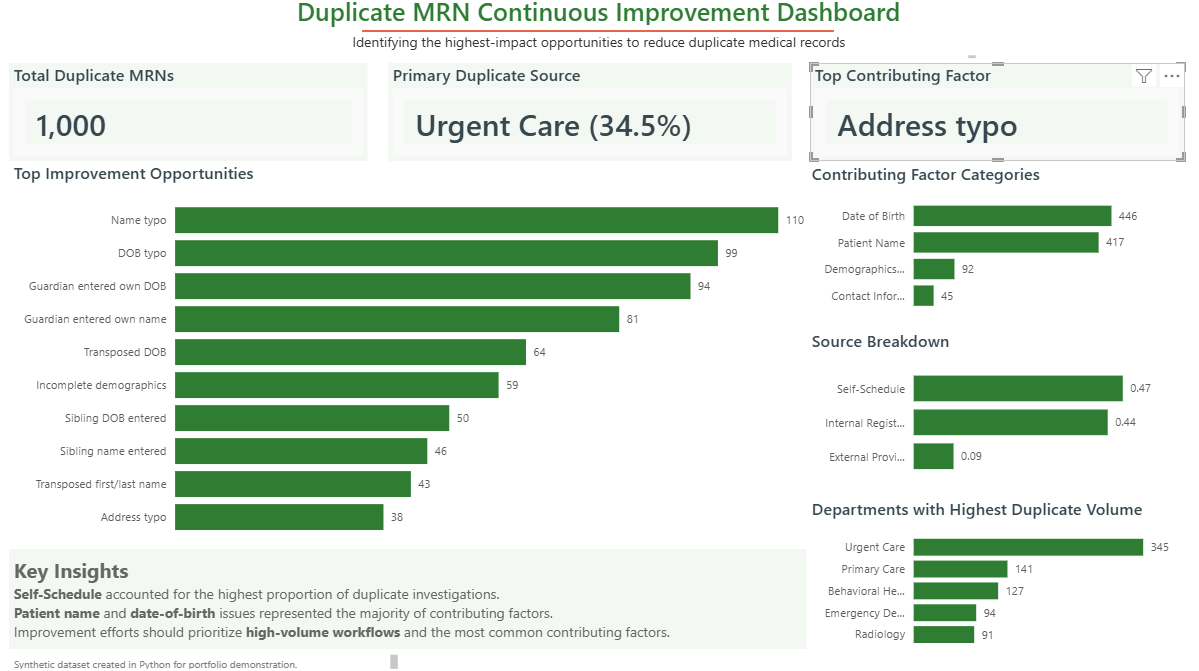

What the dashboard file says about the page in this screenshot:
{"tool":"powerbi","page":{"name":"📊 Executive Summary","canvas":[1280,720],"ordinal":0},"visuals":[{"type":"textbox","title":"Duplicate MRN Continuous Improvement Dashboard","box":[236.3,0,808.9,73],"z":0},{"type":"cardVisual","title":"Total Duplicate MRNs","fields":{"Data":["duplicate_events.Total Duplicate MRNs (Display)"]},"box":[15.9,73.1,380.4,103.8],"z":1000},{"type":"cardVisual","title":"Primary Duplicate Source","fields":{"Data":["duplicate_events.Top Source"]},"box":[417.5,73.1,428.1,103.8],"z":2000},{"type":"cardVisual","title":"Top Contributing Factor","fields":{"Data":["Min(duplicate_events.contributing_factors)"]},"box":[865.1,73.5,396.5,103.7],"z":3000},{"type":"clusteredBarChart","title":"Top Improvement Opportunities","fields":{"Category":["duplicate_events.contributing_factors"],"Y":["CountNonNull(duplicate_events.duplicate_id)"]},"box":[15.8,177.2,848.1,410.9],"z":4000},{"type":"clusteredBarChart","title":"Contributing Factor Categories","fields":{"Category":["duplicate_events.primary_category"],"Y":["CountNonNull(duplicate_events.duplicate_id)"]},"box":[861.3,177.6,400,170],"z":5000},{"type":"clusteredBarChart","title":"Source Breakdown","fields":{"Category":["duplicate_events.source"],"Y":["duplicate_events.Source %"]},"box":[861.3,355.3,399.7,169.7],"z":6000},{"type":"clusteredBarChart","title":"Departments with Highest Duplicate Volume","fields":{"Category":["duplicate_events.department_name"],"Y":["CountNonNull(duplicate_events.duplicate_id)"]},"box":[861.3,532.9,400,170],"z":7000},{"type":"textbox","box":[15.9,694.7,417.1,25.4],"z":8000},{"type":"shape","box":[390,32.8,500,12.7],"z":9000},{"type":"textbox","box":[15.8,588.1,845.5,106.3],"z":10000}]}

Visuals, with their boxes in screenshot pixels (x1, y1, x2, y2), scaled from the page's 1280x720 canvas onto the 1199x671 screenshot:
"Duplicate MRN Continuous Improvement Dashboard" textbox: bbox=(221, 0, 979, 68)
"Total Duplicate MRNs" cardVisual: bbox=(15, 68, 371, 165)
"Primary Duplicate Source" cardVisual: bbox=(391, 68, 792, 165)
"Top Contributing Factor" cardVisual: bbox=(810, 68, 1182, 165)
"Top Improvement Opportunities" clusteredBarChart: bbox=(15, 165, 809, 548)
"Contributing Factor Categories" clusteredBarChart: bbox=(807, 166, 1181, 324)
"Source Breakdown" clusteredBarChart: bbox=(807, 331, 1181, 489)
"Departments with Highest Duplicate Volume" clusteredBarChart: bbox=(807, 497, 1181, 655)
textbox: bbox=(15, 647, 406, 670)
shape: bbox=(365, 31, 834, 42)
textbox: bbox=(15, 548, 807, 647)
